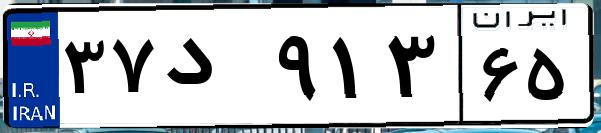1: (330, 28, 385, 110)
3: (385, 28, 445, 110), (57, 26, 110, 100)
5: (525, 38, 570, 115)
6: (475, 38, 525, 113)
7: (110, 28, 158, 98)
9: (270, 28, 330, 110)
د: (158, 20, 270, 120)
